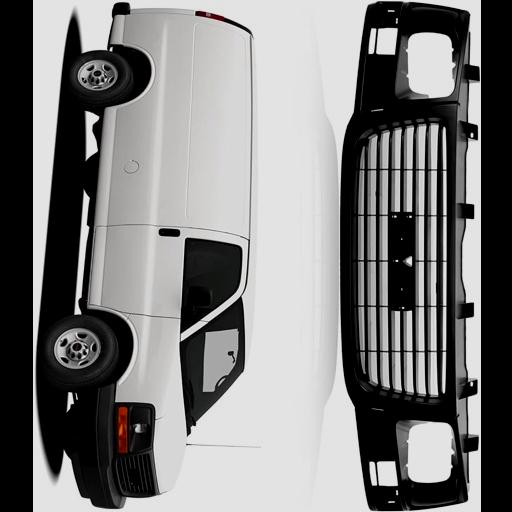van: (39, 4, 256, 509)
